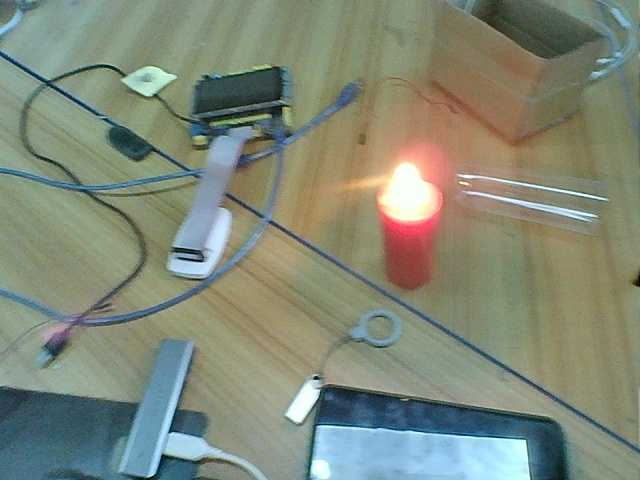candle: (386, 214, 435, 294)
fire: (377, 159, 437, 214)
